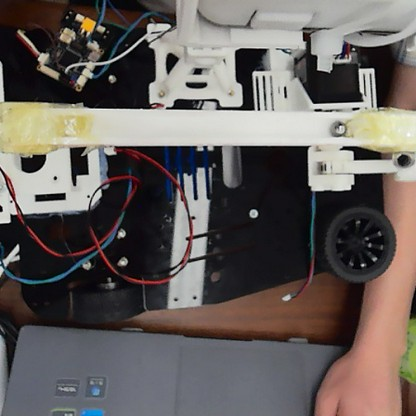ironball: (327, 118, 348, 139)
